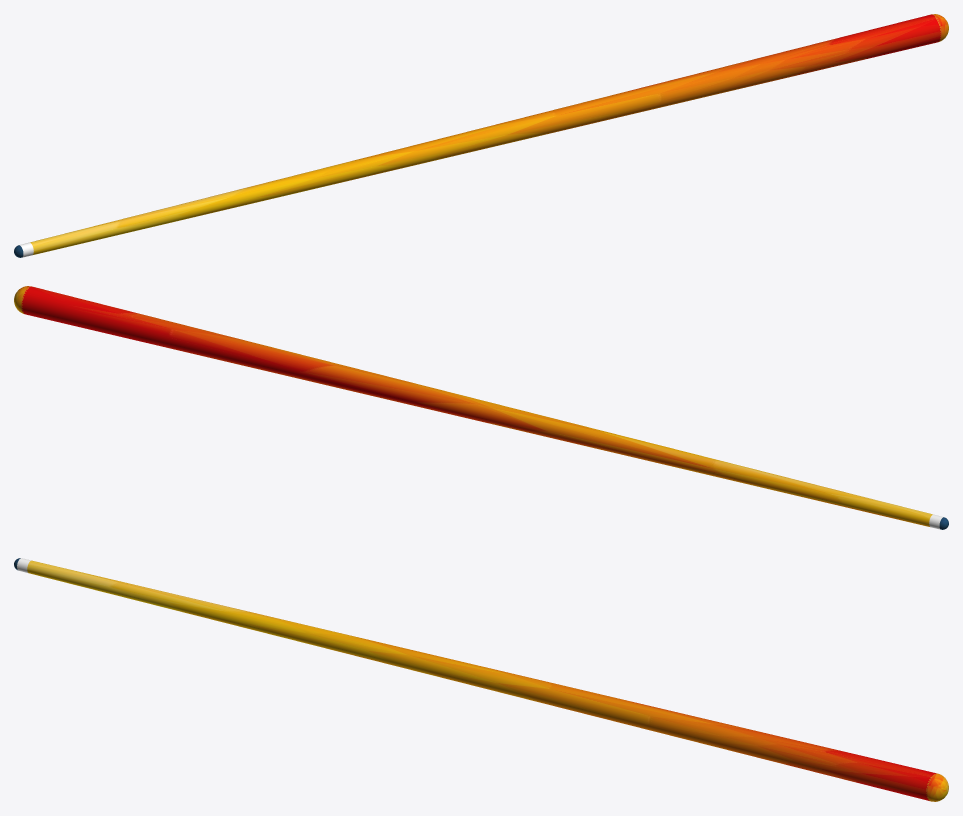
The model's file is Canne3.fbx.
3 renders of one model, top to bottom at view 1: azimuth 30°, elevation 25°; view 2: azimuth 150°, elevation 25°; view 3: azimuth 330°, elevation 25°, orthographic.
Parts seen in each view (by area): view 1: Cône; view 2: Cône; view 3: Cône.
Boxes of the visible parts, left/top/right/bottom form: Cône: left=30, top=14, right=941, bottom=254; Cône: left=21, top=286, right=932, bottom=526; Cône: left=27, top=560, right=936, bottom=801.
Bounding box in the file's own units: 150 × 4.02 × 4.02.
Materials: 4 (3 with a texture image).
